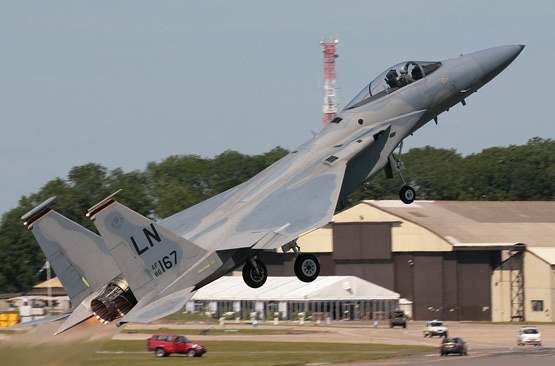airplane: (16, 43, 526, 342)
